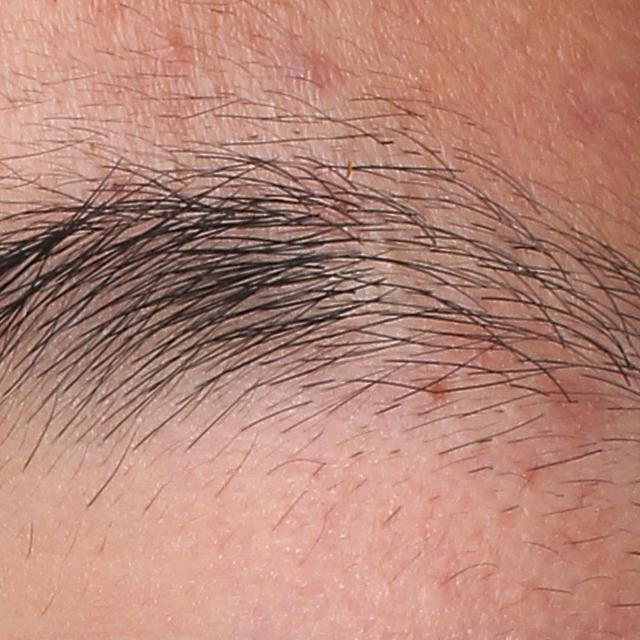papule: (267, 40, 342, 97), (156, 28, 189, 63)
